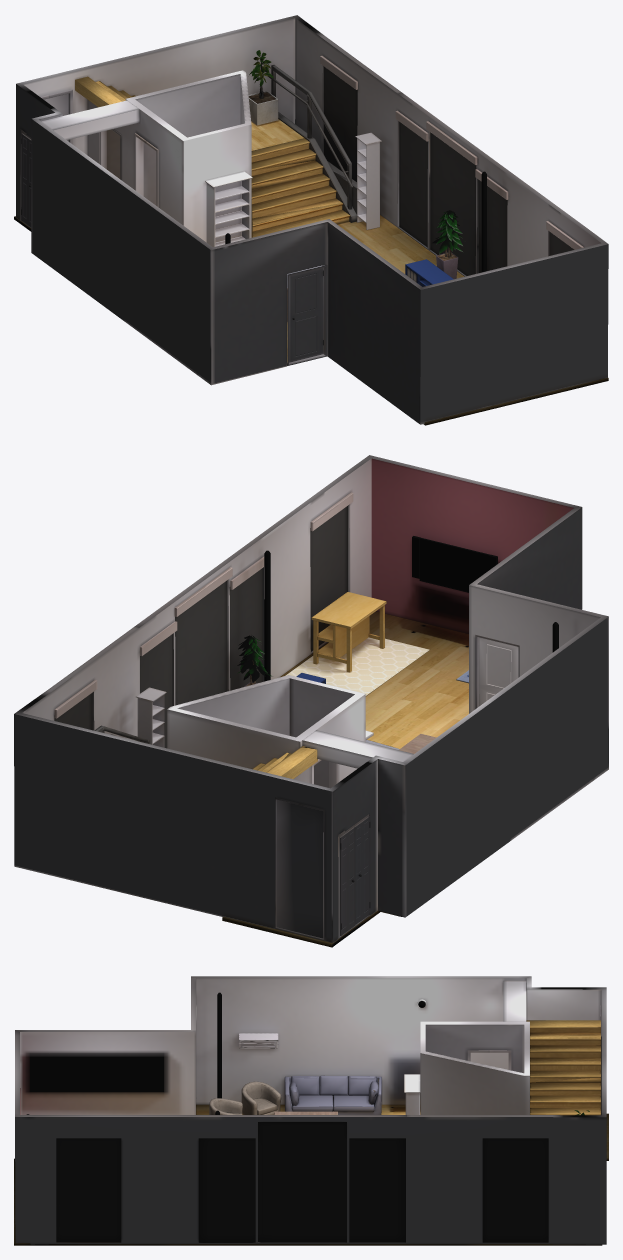
File: Baked_sc0_staging_00.uncompressed.glb
The picture shows the model from 3 angles, top to bottom: view 1: azimuth 30°, elevation 25°; view 2: azimuth 150°, elevation 25°; view 3: azimuth 270°, elevation 25°; orthographic projection. The views are drawn at different scales.
Parts seen in each view (by area): view 1: frl_apartment_wall_arch, frl_apartment_blinds, frl_apartment_stair, frl_apartment_floor, frl_apartment_door_01, frl_apartment_wall_cabinet_02, frl_apartment_wall_cabinet_01, frl_apartment_indoor_plant_01, frl_apartment_indoor_plant_02, frl_apartment_door_05, frl_apartment_door_part_03, frl_apartment_tvstand (+2 smaller); view 2: frl_apartment_wall_arch, frl_apartment_blinds, frl_apartment_floor, frl_apartment_door_04, frl_apartment_rug_01, frl_apartment_table_02, frl_apartment_tv_screen, frl_apartment_door_01, frl_apartment_door_05, frl_apartment_door_06, frl_apartment_wall_cabinet_01, frl_apartment_stair (+3 smaller); view 3: frl_apartment_wall_arch, frl_apartment_blinds, frl_apartment_stair, frl_apartment_sofa, frl_apartment_floor, frl_apartment_chair_01.999, frl_apartment_wall_cabinet_02, frl_apartment_clothes_hanger_02, frl_apartment_pipe, frl_apartment_chair_01.
Boxes of the visible parts, x1=… form: frl_apartment_wall_arch: x1=16, y1=15, x2=608, y2=424; frl_apartment_blinds: x1=320, y1=56, x2=583, y2=275; frl_apartment_stair: x1=75, y1=65, x2=356, y2=237; frl_apartment_floor: x1=14, y1=205, x2=608, y2=425; frl_apartment_door_01: x1=289, y1=267, x2=323, y2=362; frl_apartment_wall_cabinet_02: x1=205, y1=171, x2=252, y2=247; frl_apartment_wall_cabinet_01: x1=355, y1=132, x2=381, y2=229; frl_apartment_indoor_plant_01: x1=248, y1=50, x2=278, y2=125; frl_apartment_indoor_plant_02: x1=432, y1=210, x2=462, y2=279; frl_apartment_door_05: x1=21, y1=133, x2=31, y2=226; frl_apartment_door_part_03: x1=287, y1=265, x2=327, y2=365; frl_apartment_tvstand: x1=405, y1=259, x2=453, y2=286; frl_apartment_wall_arch: x1=14, y1=455, x2=608, y2=943; frl_apartment_blinds: x1=54, y1=492, x2=353, y2=748; frl_apartment_floor: x1=222, y1=611, x2=468, y2=947; frl_apartment_door_04: x1=276, y1=800, x2=323, y2=938; frl_apartment_rug_01: x1=285, y1=637, x2=429, y2=695; frl_apartment_table_02: x1=311, y1=592, x2=386, y2=672; frl_apartment_tv_screen: x1=412, y1=536, x2=497, y2=592; frl_apartment_door_01: x1=479, y1=637, x2=518, y2=706; frl_apartment_door_05: x1=340, y1=827, x2=355, y2=935; frl_apartment_door_06: x1=354, y1=816, x2=370, y2=924; frl_apartment_wall_cabinet_01: x1=136, y1=687, x2=166, y2=747; frl_apartment_stair: x1=94, y1=725, x2=317, y2=778; frl_apartment_wall_arch: x1=15, y1=976, x2=606, y2=1244; frl_apartment_blinds: x1=56, y1=1122, x2=548, y2=1242; frl_apartment_stair: x1=526, y1=1020, x2=600, y2=1115; frl_apartment_sofa: x1=284, y1=1075, x2=381, y2=1114; frl_apartment_floor: x1=14, y1=1104, x2=608, y2=1245; frl_apartment_chair_01.999: x1=241, y1=1081, x2=281, y2=1114; frl_apartment_wall_cabinet_02: x1=404, y1=1074, x2=420, y2=1114; frl_apartment_clothes_hanger_02: x1=238, y1=1033, x2=278, y2=1048; frl_apartment_pipe: x1=215, y1=992, x2=221, y2=1114; frl_apartment_chair_01: x1=209, y1=1098, x2=242, y2=1114.
Bounding box in the file's own units: 7.26 × 3.11 × 12.93.
Materials: 1 (1 with a texture image).
